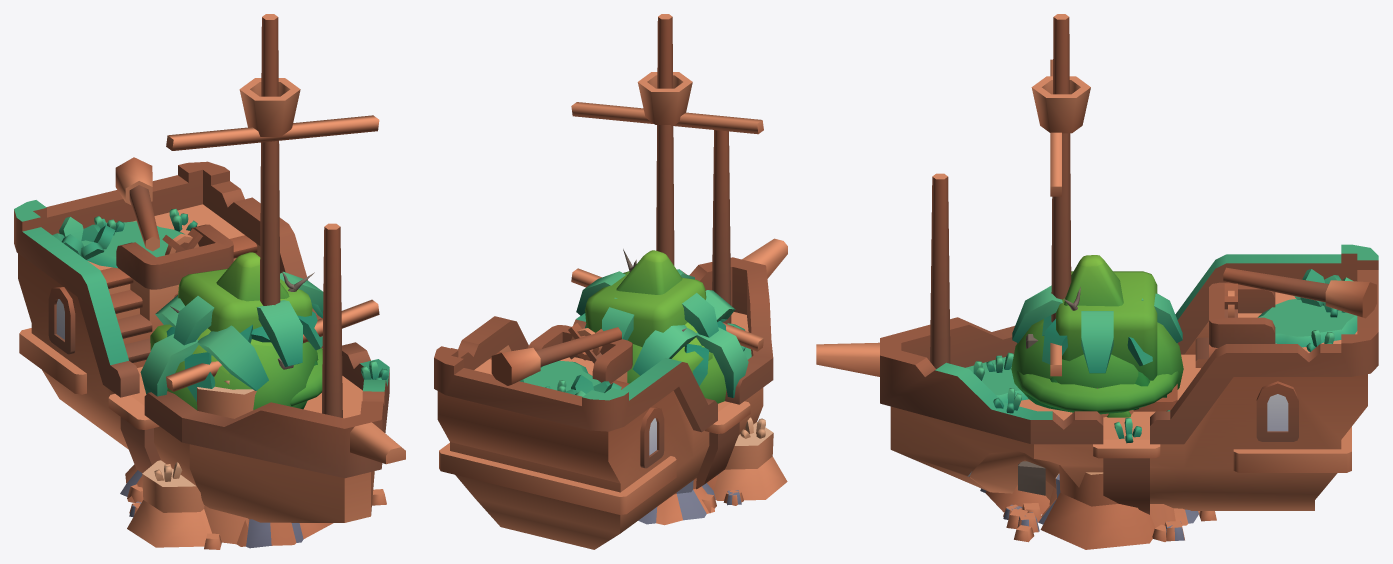
File: nature.glb
The picture shows the model from 3 angles, left to right: view 1: azimuth 30°, elevation 25°; view 2: azimuth 150°, elevation 25°; view 3: azimuth 270°, elevation 25°; orthographic projection. The views are drawn at different scales.
Visible parts, largest first — view 1: ship-wreck, rocks-sand-a, palm-detailed-bend, Group (×3), sail-a, palm-detailed-straight, Tree_1_A_Color1, Tree_2_A_Color1, Tree_4_A_Color1, rocks-sand-b, rocks-b, Tree_3_A_Color1; view 2: ship-wreck, Group (×3), Tree_2_A_Color1, palm-detailed-bend, rocks-sand-a, sail-a, palm-detailed-straight, Tree_4_A_Color1, Tree_1_A_Color1, rocks-b, rocks-sand-b; view 3: ship-wreck, rocks-sand-a, Group (×3), Tree_2_A_Color1, palm-detailed-straight, Tree_1_A_Color1, Tree_3_A_Color1, Tree_4_A_Color1, sail-a, rocks-sand-c, rocks-sand-b, rocks-b.
Boxes of the visible parts, left/top/right/bottom form: ship-wreck: left=14, top=14, right=405, bottom=522; rocks-sand-a: left=127, top=380, right=386, bottom=547; palm-detailed-bend: left=140, top=295, right=271, bottom=401; Group (×3): left=52, top=157, right=184, bottom=267; sail-a: left=166, top=115, right=379, bottom=391; palm-detailed-straight: left=173, top=271, right=323, bottom=366; Tree_1_A_Color1: left=167, top=328, right=318, bottom=410; Tree_2_A_Color1: left=150, top=268, right=312, bottom=350; Tree_4_A_Color1: left=216, top=252, right=317, bottom=365; rocks-sand-b: left=125, top=464, right=296, bottom=549; rocks-b: left=120, top=470, right=303, bottom=548; Tree_3_A_Color1: left=290, top=348, right=322, bottom=406; ship-wreck: left=434, top=14, right=787, bottom=549; Group (×3): left=491, top=327, right=621, bottom=396; Tree_2_A_Color1: left=585, top=271, right=712, bottom=373; palm-detailed-bend: left=632, top=290, right=748, bottom=397; rocks-sand-a: left=702, top=417, right=787, bottom=513; sail-a: left=571, top=102, right=763, bottom=351; palm-detailed-straight: left=576, top=271, right=718, bottom=340; Tree_4_A_Color1: left=616, top=250, right=682, bottom=294; Tree_1_A_Color1: left=627, top=322, right=726, bottom=403; rocks-b: left=638, top=474, right=741, bottom=524; rocks-sand-b: left=656, top=475, right=743, bottom=525; ship-wreck: left=816, top=14, right=1378, bottom=514; rocks-sand-a: left=985, top=410, right=1216, bottom=549; Group (×3): left=965, top=267, right=1376, bottom=403; Tree_2_A_Color1: left=1056, top=271, right=1157, bottom=380; palm-detailed-straight: left=1012, top=287, right=1182, bottom=373; Tree_1_A_Color1: left=1011, top=319, right=1183, bottom=412; Tree_3_A_Color1: left=1015, top=371, right=1179, bottom=414; Tree_4_A_Color1: left=1050, top=255, right=1149, bottom=417; sail-a: left=1050, top=59, right=1061, bottom=376; rocks-sand-c: left=1022, top=503, right=1175, bottom=541; rocks-sand-b: left=1003, top=473, right=1199, bottom=541; rocks-b: left=980, top=474, right=1198, bottom=540.
Size of the model in its own units: 5.11 by 10.43 by 10.6.
Materials: 15 (4 with a texture image).
